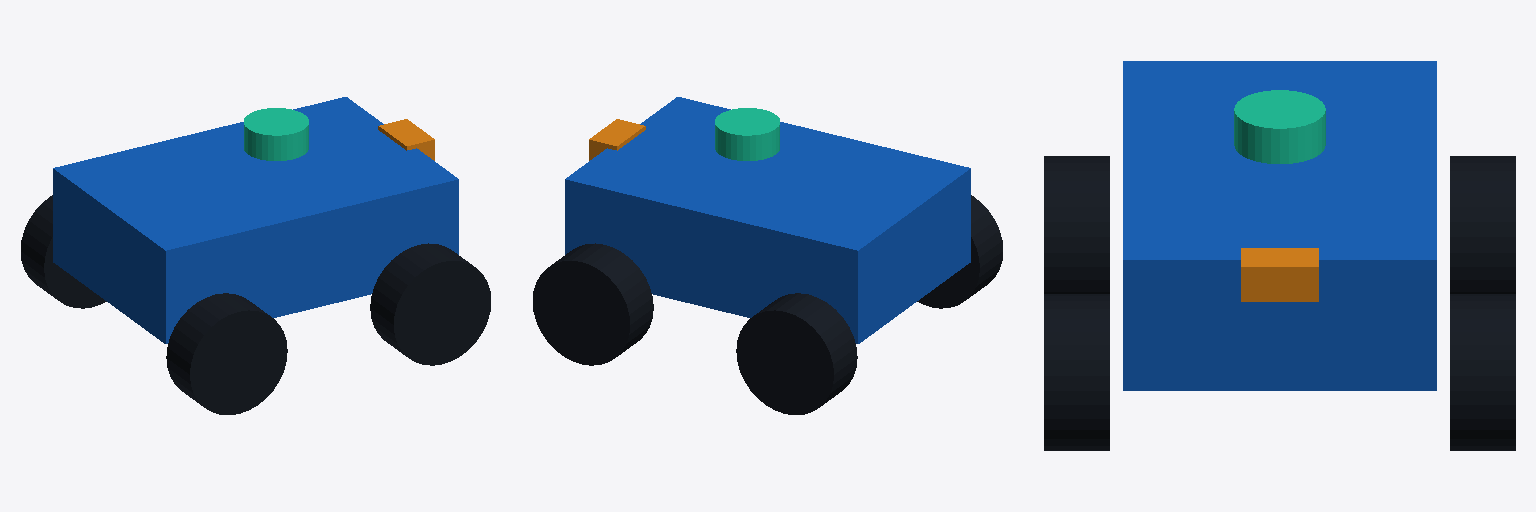
The robot description file, URDF, robot "pyrobot_four_wheel":
<!--
SPDX-FileCopyrightText: 2026 Kanishka Kularathna (FoXTrot-98)
SPDX-License-Identifier: Apache-2.0
-->

<robot name="pyrobot_four_wheel">
  <link name="base_link">
    <visual>
      <origin xyz="0 0 .25" rpy="0 0 0" />
      <geometry>
        <box size=".72 .48 .22" />
      </geometry>
      <material name="base_link_material">
        <color rgba=".12 .42 .78 1" />
      </material>
    </visual>
    <collision>
      <origin xyz="0 0 .25" rpy="0 0 0" />
      <geometry>
        <box size=".72 .48 .22" />
      </geometry>
    </collision>
    <inertial>
      <origin xyz="0 0 .25" />
      <mass value="8" />
      <inertia ixx=".05" ixy="0" ixz="0" iyy=".05" iyz="0" izz=".05" />
    </inertial>
  </link>
  <link name="front_left_wheel">
    <visual>
      <origin xyz="0 0 0" rpy="1.57079632679 0 0" />
      <geometry>
        <cylinder radius=".12" length=".10" />
      </geometry>
      <material name="front_left_wheel_material">
        <color rgba=".12 .14 .17 1" />
      </material>
    </visual>
    <collision>
      <origin xyz="0 0 0" rpy="1.57079632679 0 0" />
      <geometry>
        <cylinder radius=".12" length=".10" />
      </geometry>
    </collision>
    <inertial>
      <origin xyz="0 0 0" />
      <mass value="0.5" />
      <inertia ixx=".05" ixy="0" ixz="0" iyy=".05" iyz="0" izz=".05" />
    </inertial>
  </link>
  <joint name="front_left_wheel_joint" type="continuous">
    <parent link="base_link" />
    <child link="front_left_wheel" />
    <origin xyz="0.25 0.31 .12" rpy="0 0 0" />
    <axis xyz="0 1 0" />
    <limit effort="12" velocity="12" />
  </joint>
  <link name="front_left_encoder" />
  <joint name="front_left_encoder_mount" type="fixed">
    <parent link="base_link" />
    <child link="front_left_encoder" />
    <origin xyz="0.25 0.31 .12" rpy="0 0 0" />
  </joint>
  <link name="rear_left_wheel">
    <visual>
      <origin xyz="0 0 0" rpy="1.57079632679 0 0" />
      <geometry>
        <cylinder radius=".12" length=".10" />
      </geometry>
      <material name="rear_left_wheel_material">
        <color rgba=".12 .14 .17 1" />
      </material>
    </visual>
    <collision>
      <origin xyz="0 0 0" rpy="1.57079632679 0 0" />
      <geometry>
        <cylinder radius=".12" length=".10" />
      </geometry>
    </collision>
    <inertial>
      <origin xyz="0 0 0" />
      <mass value="0.5" />
      <inertia ixx=".05" ixy="0" ixz="0" iyy=".05" iyz="0" izz=".05" />
    </inertial>
  </link>
  <joint name="rear_left_wheel_joint" type="continuous">
    <parent link="base_link" />
    <child link="rear_left_wheel" />
    <origin xyz="-0.25 0.31 .12" rpy="0 0 0" />
    <axis xyz="0 1 0" />
    <limit effort="12" velocity="12" />
  </joint>
  <link name="rear_left_encoder" />
  <joint name="rear_left_encoder_mount" type="fixed">
    <parent link="base_link" />
    <child link="rear_left_encoder" />
    <origin xyz="-0.25 0.31 .12" rpy="0 0 0" />
  </joint>
  <link name="front_right_wheel">
    <visual>
      <origin xyz="0 0 0" rpy="1.57079632679 0 0" />
      <geometry>
        <cylinder radius=".12" length=".10" />
      </geometry>
      <material name="front_right_wheel_material">
        <color rgba=".12 .14 .17 1" />
      </material>
    </visual>
    <collision>
      <origin xyz="0 0 0" rpy="1.57079632679 0 0" />
      <geometry>
        <cylinder radius=".12" length=".10" />
      </geometry>
    </collision>
    <inertial>
      <origin xyz="0 0 0" />
      <mass value="0.5" />
      <inertia ixx=".05" ixy="0" ixz="0" iyy=".05" iyz="0" izz=".05" />
    </inertial>
  </link>
  <joint name="front_right_wheel_joint" type="continuous">
    <parent link="base_link" />
    <child link="front_right_wheel" />
    <origin xyz="0.25 -0.31 .12" rpy="0 0 0" />
    <axis xyz="0 1 0" />
    <limit effort="12" velocity="12" />
  </joint>
  <link name="front_right_encoder" />
  <joint name="front_right_encoder_mount" type="fixed">
    <parent link="base_link" />
    <child link="front_right_encoder" />
    <origin xyz="0.25 -0.31 .12" rpy="0 0 0" />
  </joint>
  <link name="rear_right_wheel">
    <visual>
      <origin xyz="0 0 0" rpy="1.57079632679 0 0" />
      <geometry>
        <cylinder radius=".12" length=".10" />
      </geometry>
      <material name="rear_right_wheel_material">
        <color rgba=".12 .14 .17 1" />
      </material>
    </visual>
    <collision>
      <origin xyz="0 0 0" rpy="1.57079632679 0 0" />
      <geometry>
        <cylinder radius=".12" length=".10" />
      </geometry>
    </collision>
    <inertial>
      <origin xyz="0 0 0" />
      <mass value="0.5" />
      <inertia ixx=".05" ixy="0" ixz="0" iyy=".05" iyz="0" izz=".05" />
    </inertial>
  </link>
  <joint name="rear_right_wheel_joint" type="continuous">
    <parent link="base_link" />
    <child link="rear_right_wheel" />
    <origin xyz="-0.25 -0.31 .12" rpy="0 0 0" />
    <axis xyz="0 1 0" />
    <limit effort="12" velocity="12" />
  </joint>
  <link name="rear_right_encoder" />
  <joint name="rear_right_encoder_mount" type="fixed">
    <parent link="base_link" />
    <child link="rear_right_encoder" />
    <origin xyz="-0.25 -0.31 .12" rpy="0 0 0" />
  </joint>
  <link name="lidar_link">
    <visual>
      <origin xyz="0 0 0" rpy="0 0 0" />
      <geometry>
        <cylinder radius=".07" length=".06" />
      </geometry>
      <material name="lidar_link_material">
        <color rgba=".15 .8 .64 1" />
      </material>
    </visual>
    <collision>
      <origin xyz="0 0 0" rpy="0 0 0" />
      <geometry>
        <cylinder radius=".07" length=".06" />
      </geometry>
    </collision>
    <inertial>
      <origin xyz="0 0 0" />
      <mass value="0.2" />
      <inertia ixx=".05" ixy="0" ixz="0" iyy=".05" iyz="0" izz=".05" />
    </inertial>
  </link>
  <joint name="lidar_mount" type="fixed">
    <parent link="base_link" />
    <child link="lidar_link" />
    <origin xyz=".05 0 .44" rpy="0 0 0" />
  </joint>
  <link name="camera_link">
    <visual>
      <origin xyz="0 0 0" rpy="0 0 0" />
      <geometry>
        <box size=".07 .12 .06" />
      </geometry>
      <material name="camera_link_material">
        <color rgba=".9 .55 .13 1" />
      </material>
    </visual>
    <collision>
      <origin xyz="0 0 0" rpy="0 0 0" />
      <geometry>
        <box size=".07 .12 .06" />
      </geometry>
    </collision>
    <inertial>
      <origin xyz="0 0 0" />
      <mass value="0.1" />
      <inertia ixx=".05" ixy="0" ixz="0" iyy=".05" iyz="0" izz=".05" />
    </inertial>
  </link>
  <joint name="camera_mount" type="fixed">
    <parent link="base_link" />
    <child link="camera_link" />
    <origin xyz=".37 0 .34" rpy="0 0 0" />
  </joint>
  <link name="camera_optical_frame" />
  <joint name="camera_optical_mount" type="fixed">
    <parent link="camera_link" />
    <child link="camera_optical_frame" />
    <origin xyz="0 0 0" rpy="-1.57079632679 0 -1.57079632679" />
  </joint>
</robot>

--- What the picture shows (computed from the rendered views, not written in the file) ---
3 views of the same robot in one strip: view 1: azimuth 30°, elevation 25°; view 2: azimuth 150°, elevation 25°; view 3: azimuth 270°, elevation 25° (orthographic).
Model pyrobot_four_wheel with 12 links and 11 joints (4 continuous, 7 fixed), rooted at base_link, posed every joint at zero.
Visible links, largest first — view 1: base_link, rear_right_wheel, front_right_wheel, rear_left_wheel, lidar_link, camera_link; view 2: base_link, rear_left_wheel, front_left_wheel, rear_right_wheel, lidar_link, camera_link; view 3: base_link, front_left_wheel, front_right_wheel, rear_left_wheel, rear_right_wheel, lidar_link, camera_link.
Link boxes in pixels (<box>): base_link: <box>53,97,458,343</box>; rear_right_wheel: <box>166,293,287,414</box>; front_right_wheel: <box>370,243,490,365</box>; rear_left_wheel: <box>21,195,106,308</box>; lidar_link: <box>244,108,308,160</box>; camera_link: <box>378,119,434,160</box>; base_link: <box>565,97,970,343</box>; rear_left_wheel: <box>736,293,857,414</box>; front_left_wheel: <box>533,243,653,365</box>; rear_right_wheel: <box>917,195,1002,308</box>; lidar_link: <box>715,108,779,160</box>; camera_link: <box>589,119,645,160</box>; base_link: <box>1123,61,1436,390</box>; front_left_wheel: <box>1450,294,1515,450</box>; front_right_wheel: <box>1044,294,1109,450</box>; rear_left_wheel: <box>1450,156,1515,293</box>; rear_right_wheel: <box>1044,156,1109,293</box>; lidar_link: <box>1234,90,1325,163</box>; camera_link: <box>1241,248,1318,301</box>.
Size in the robot's own frame: 0.775 by 0.72 by 0.47 metres.
Geometry: primitives only (box / cylinder / sphere), no mesh files.
